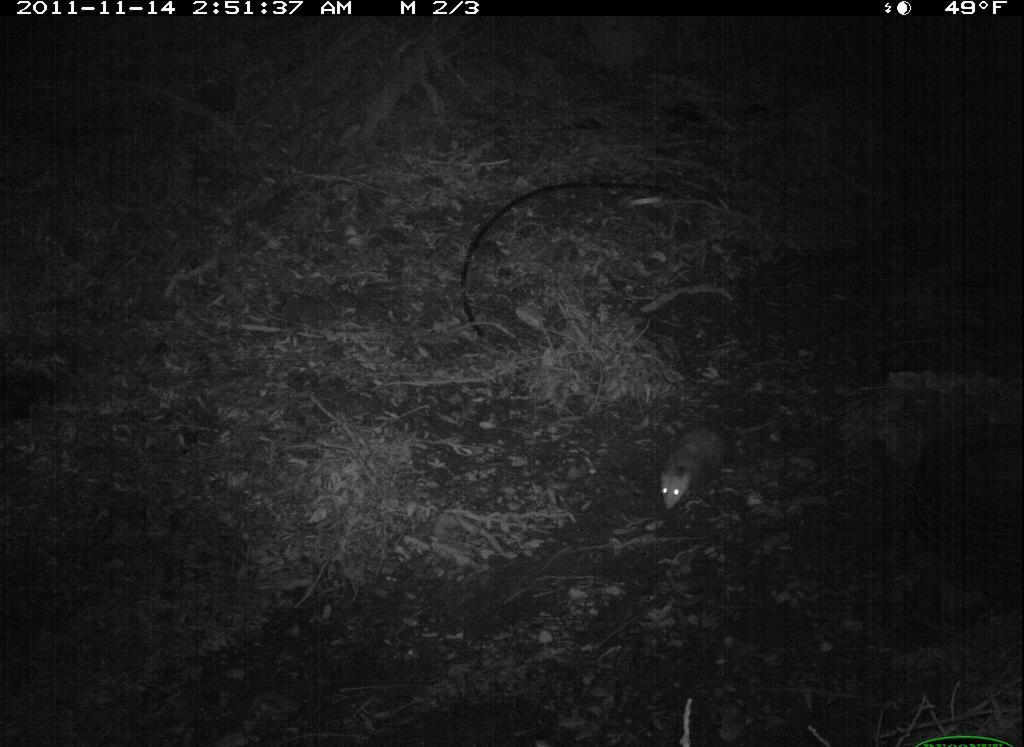opossum: (630, 397, 751, 532)
